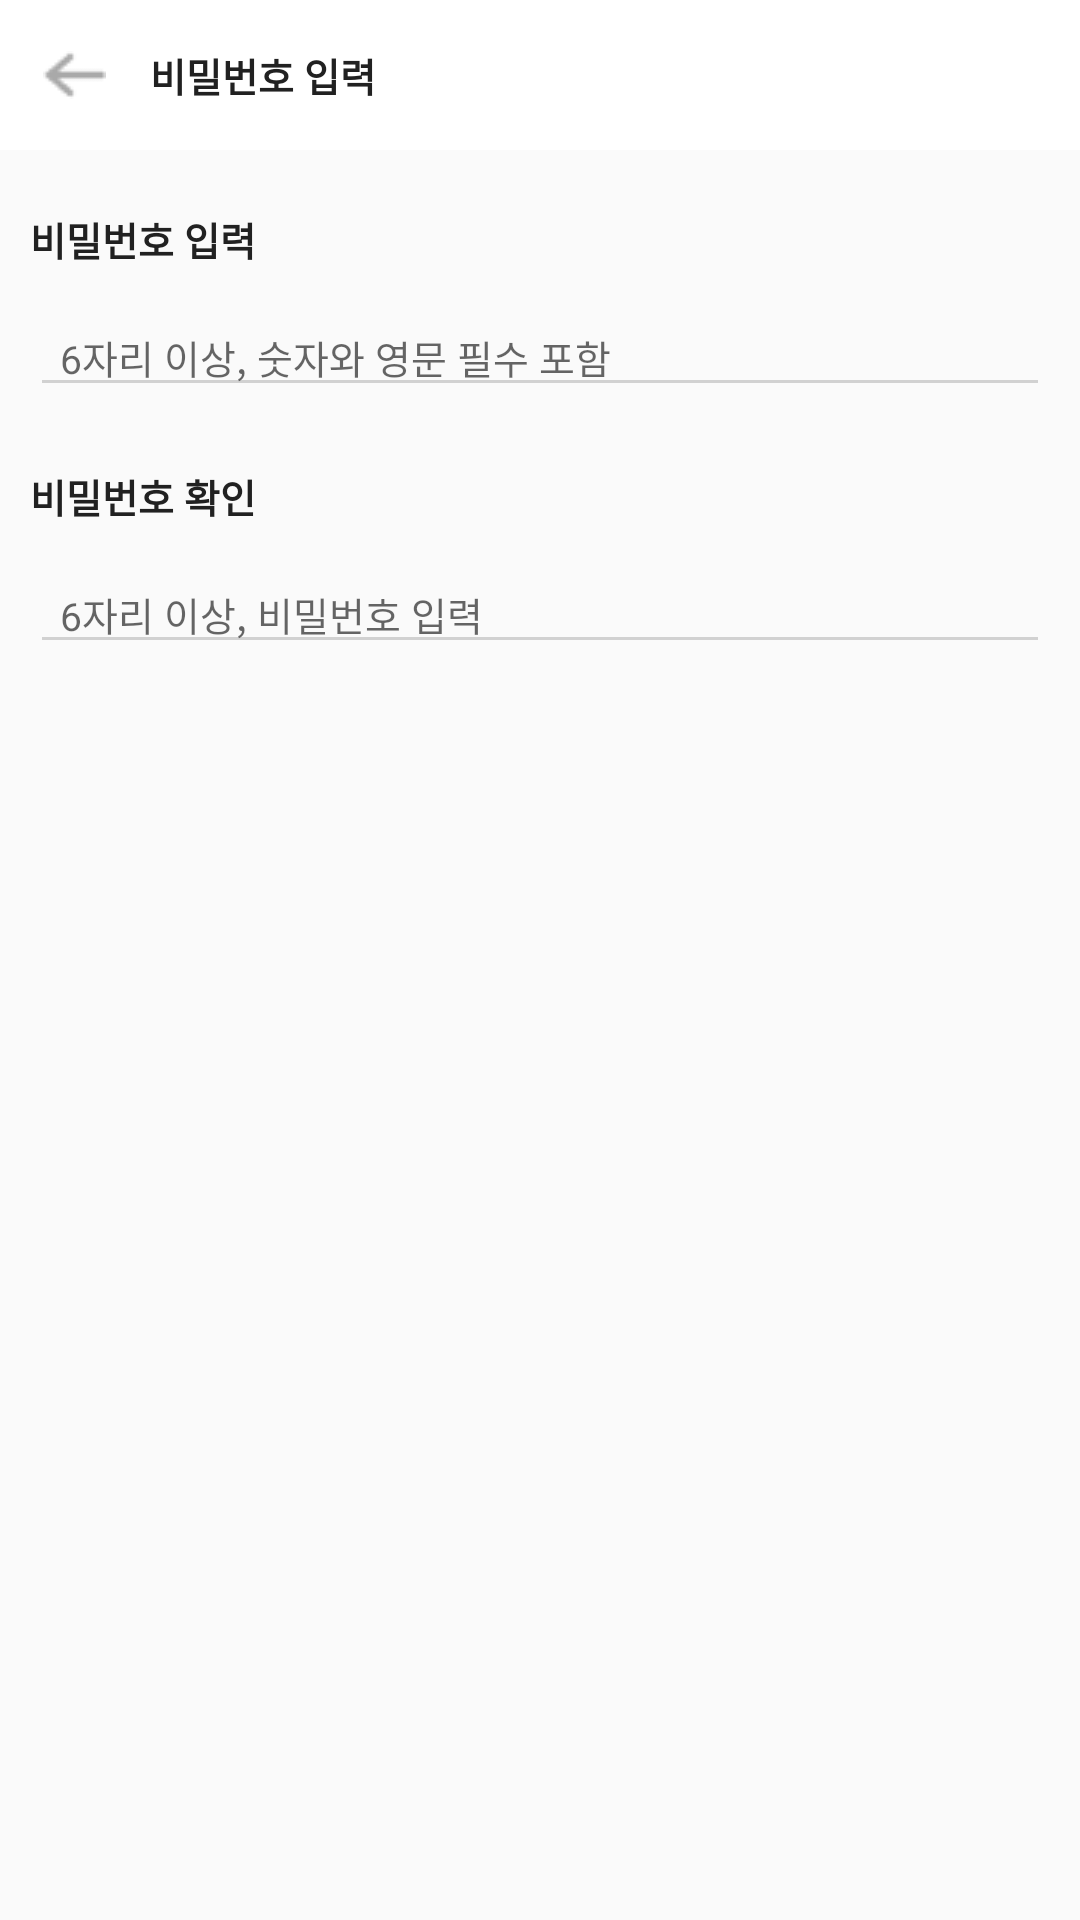

Locate icon controls on the screen. Image size 1080 × 1920, boxes as (x1, y1, x2, y2).
back: (45, 53, 106, 97)
